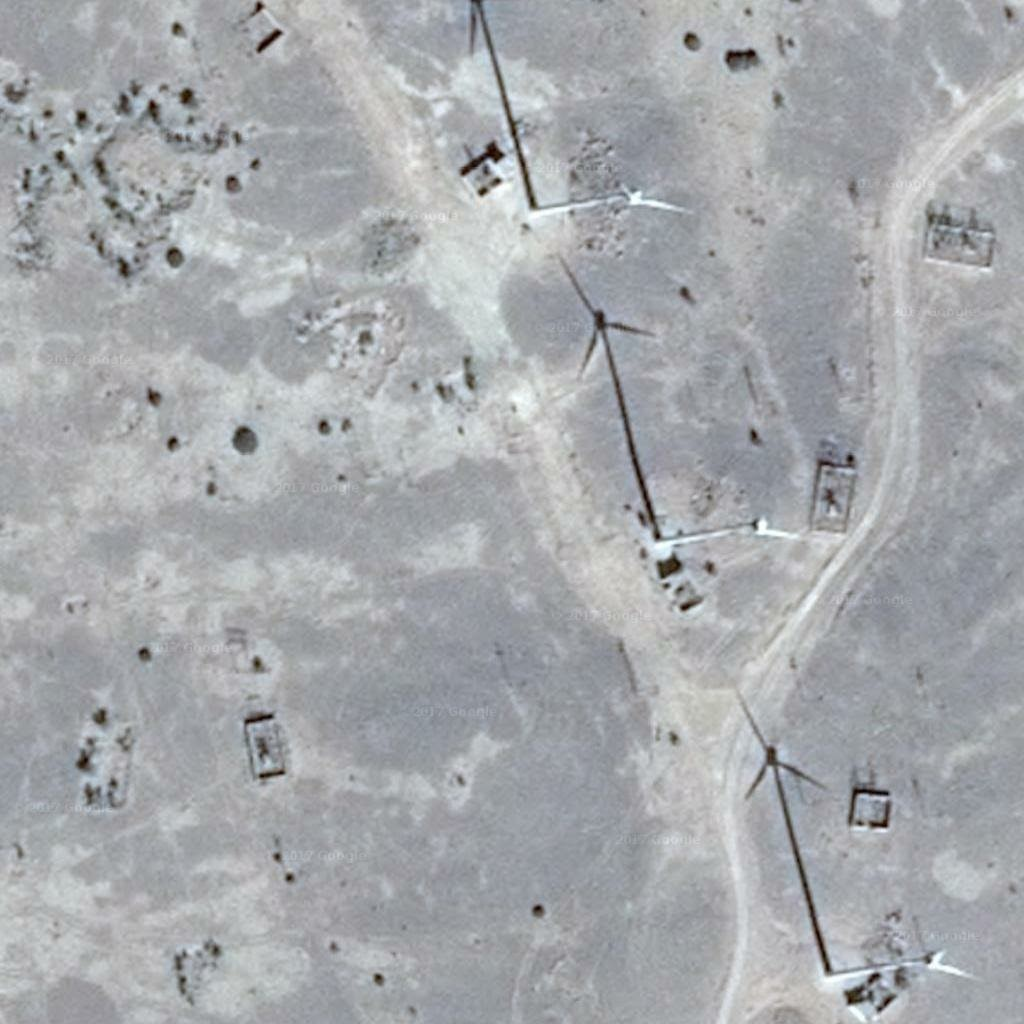Windmill: (546, 249, 672, 538)
